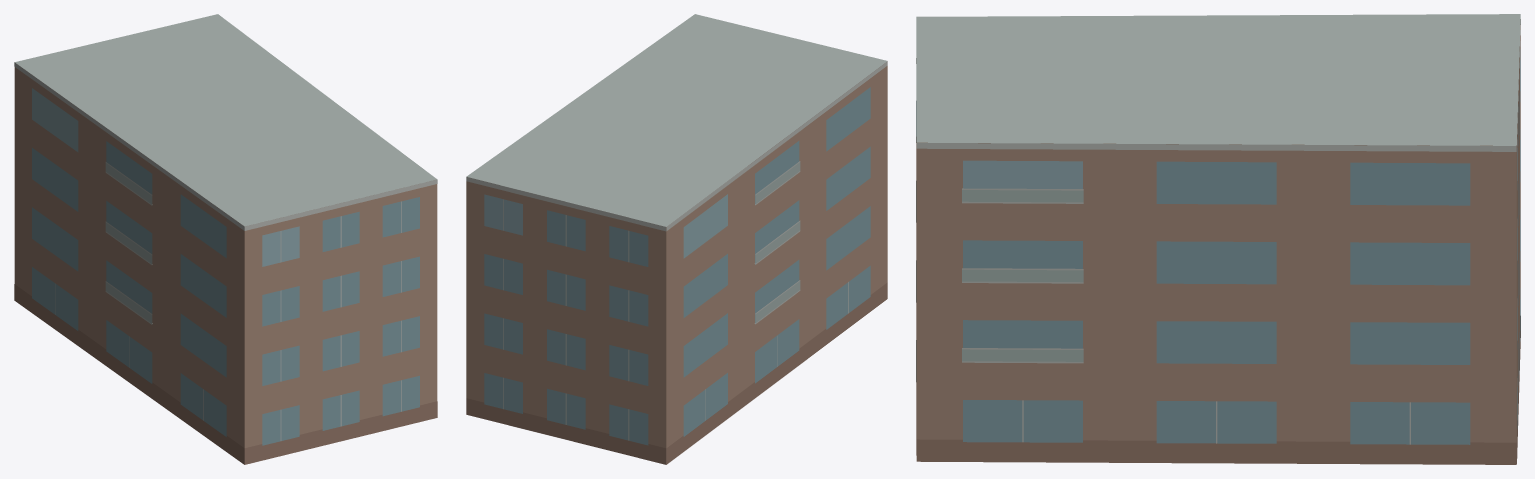
File: survey-upis-32773014.glb
3 views of the same model, side by side, from view 1: azimuth 30°, elevation 25°; view 2: azimuth 150°, elevation 25°; view 3: azimuth 270°, elevation 25° (orthographic). The views are drawn at different scales.
Visible parts, largest first — view 1: survey-upis-32773014.tmp; view 2: survey-upis-32773014.tmp; view 3: survey-upis-32773014.tmp.
Part boxes in pixels (x1,y1,x2,y2): survey-upis-32773014.tmp: (14, 14, 437, 464); survey-upis-32773014.tmp: (466, 14, 887, 464); survey-upis-32773014.tmp: (916, 14, 1520, 464).
Bounding box in the file's own units: 11.45 × 12.9 × 22.17.
